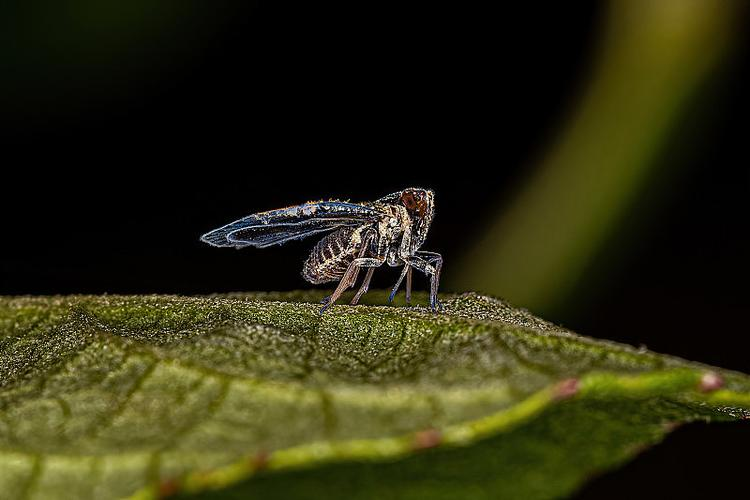Delphacidae: (198, 186, 444, 318)
